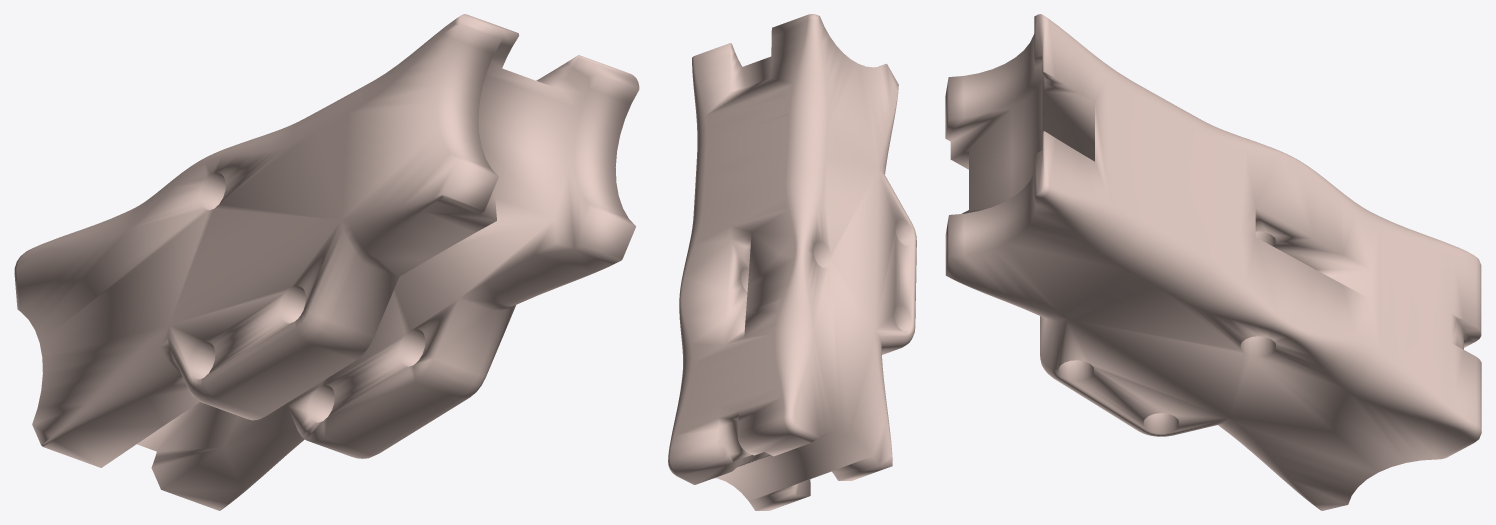
The model's file is thumb_mlp_1.obj.
The picture shows the model from 3 angles, left to right: view 1: azimuth 30°, elevation 25°; view 2: azimuth 150°, elevation 25°; view 3: azimuth 270°, elevation 25°; orthographic projection. The views are drawn at different scales.
Size of the model in its own units: 25.67 by 32.39 by 29.37.
